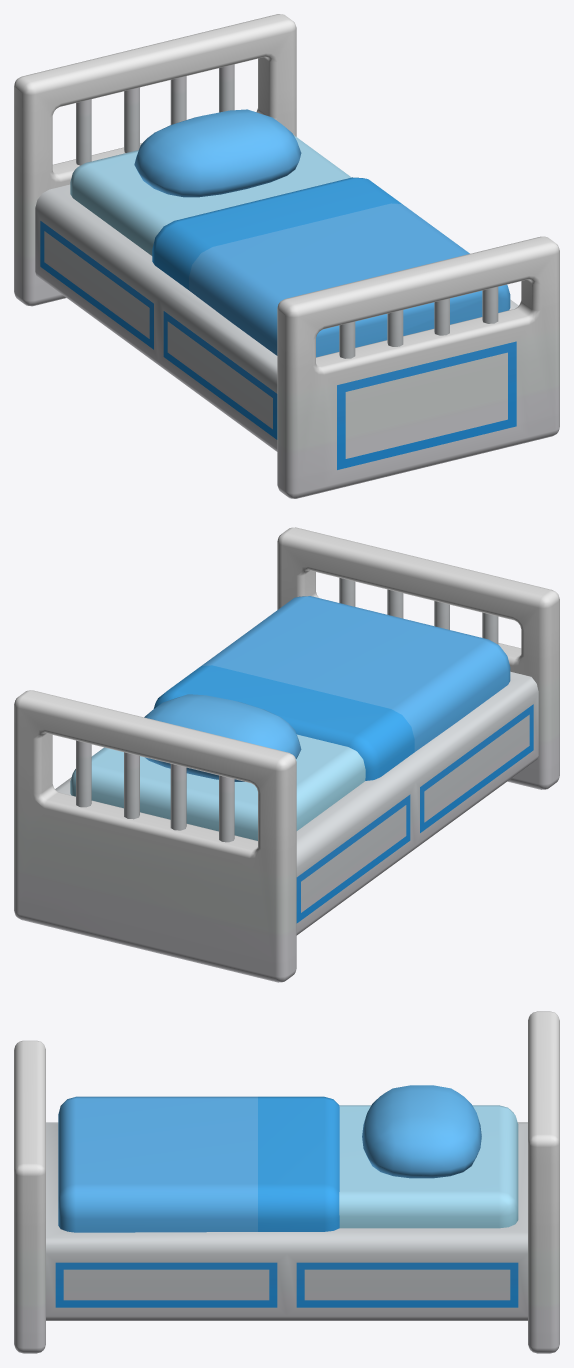
The model's file is Bed_19.glb.
3 views of the same model, one above another, from view 1: azimuth 30°, elevation 25°; view 2: azimuth 150°, elevation 25°; view 3: azimuth 270°, elevation 25° (orthographic). The views are drawn at different scales.
Visible parts, largest first — view 1: Bed_19; view 2: Bed_19; view 3: Bed_19.
Boxes of the visible parts, x1=… form: Bed_19: x1=14, y1=14, x2=559, y2=498; Bed_19: x1=14, y1=527, x2=559, y2=982; Bed_19: x1=14, y1=1011, x2=559, y2=1353.
Size of the model in its own units: 0.96 by 0.75 by 1.7.
1 material, 1 textured.
